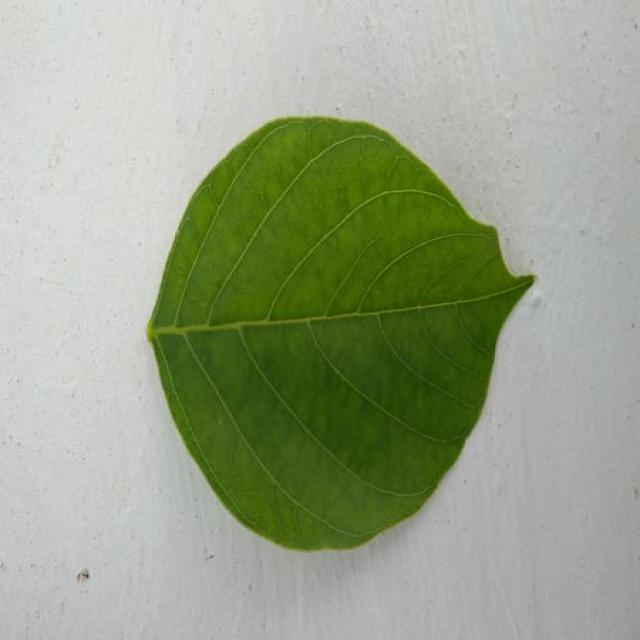honge: (148, 118, 533, 549)
